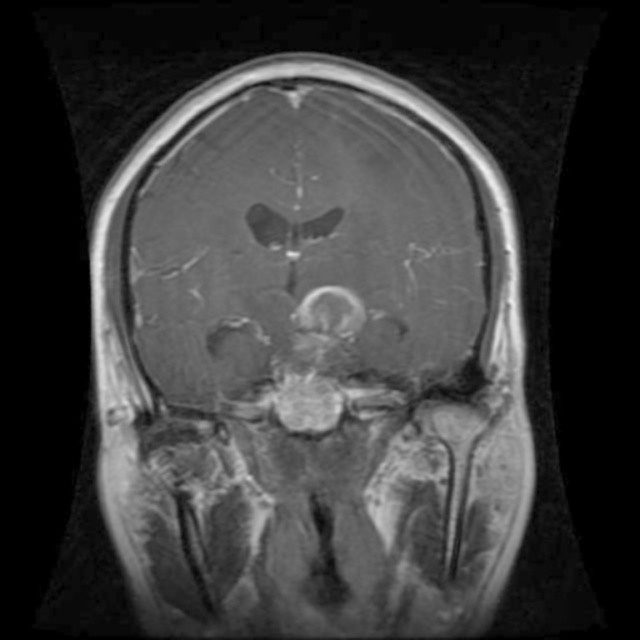pituitary tumor: (296, 282, 365, 338)
